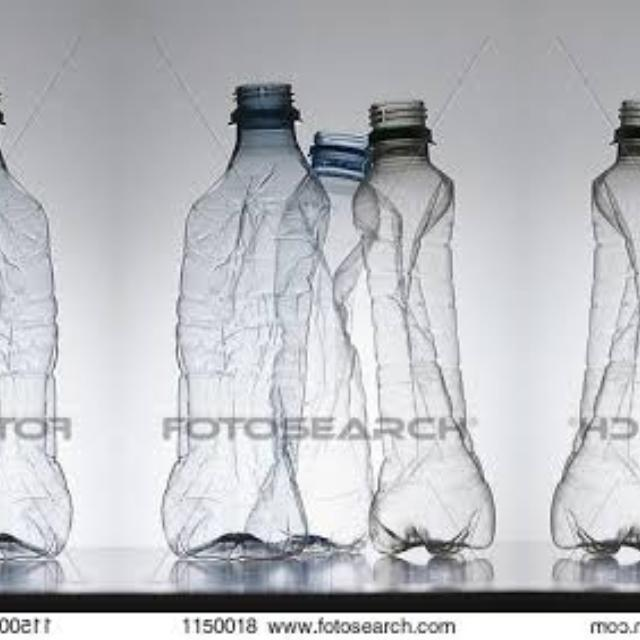Plastic: (156, 50, 494, 578), (551, 50, 640, 577), (0, 50, 75, 577)
